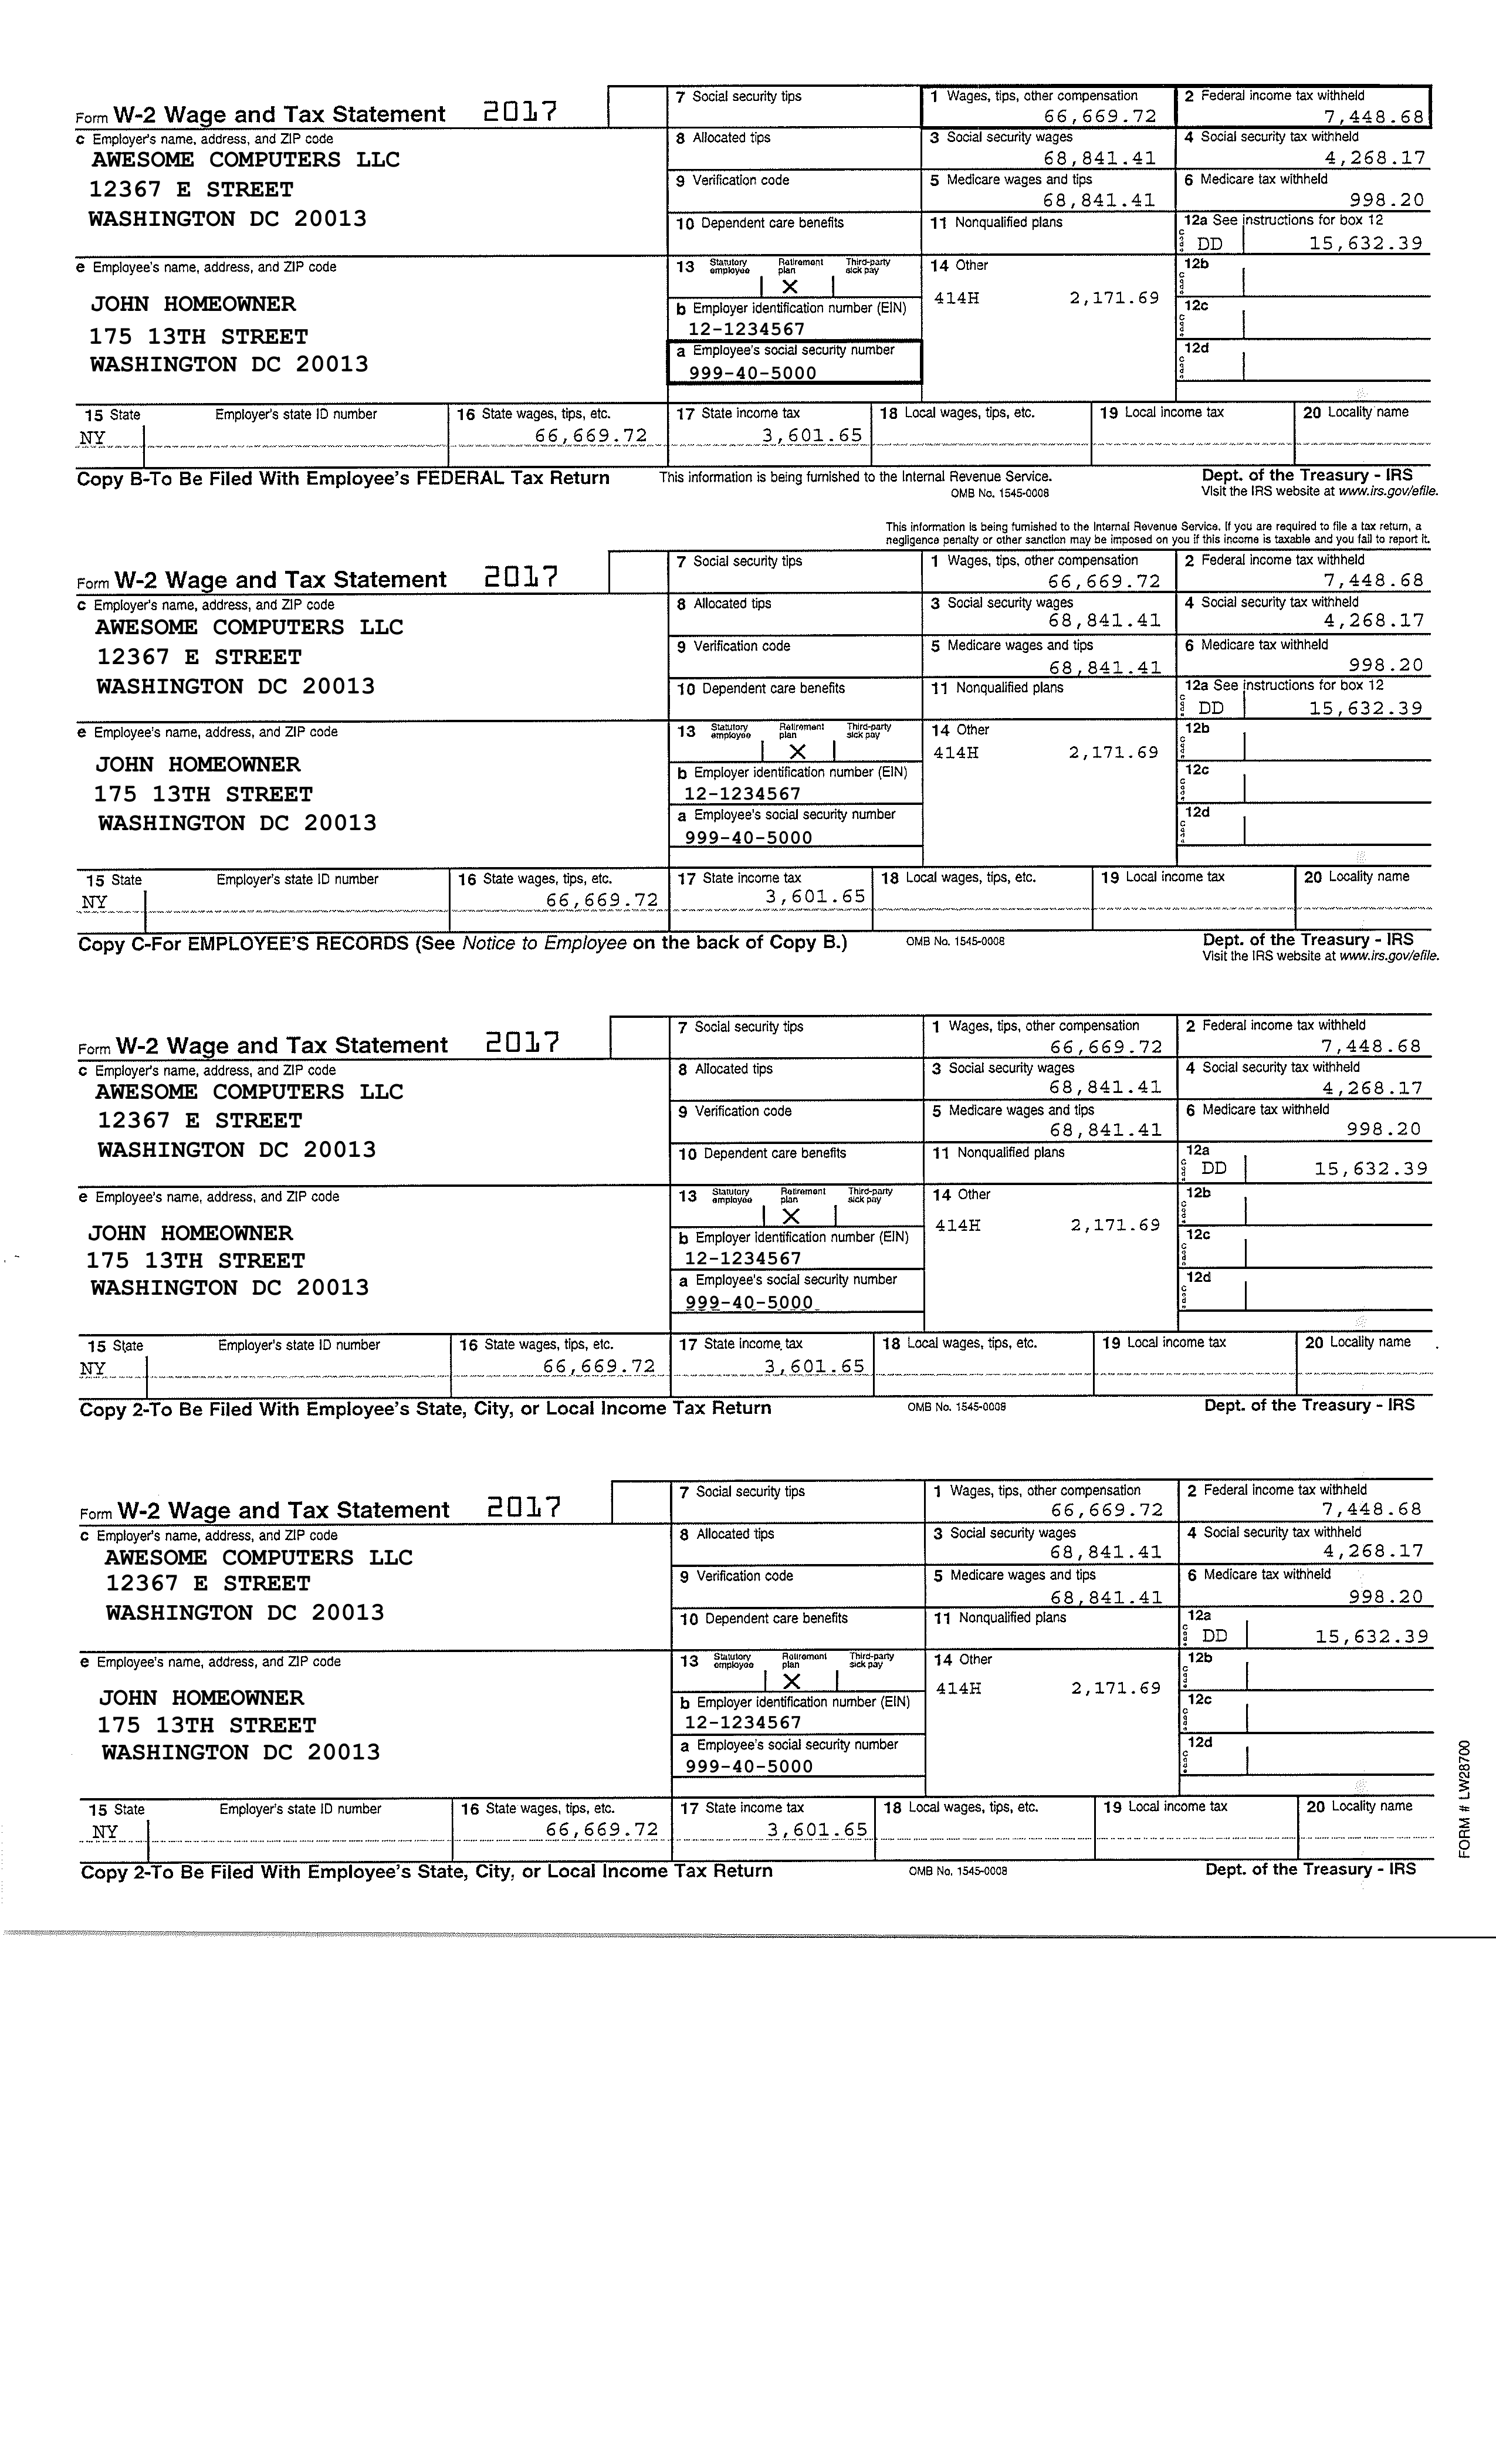table: (74, 84, 1433, 470), (74, 1477, 1433, 1862), (74, 549, 1431, 935), (77, 1014, 1434, 1397)
